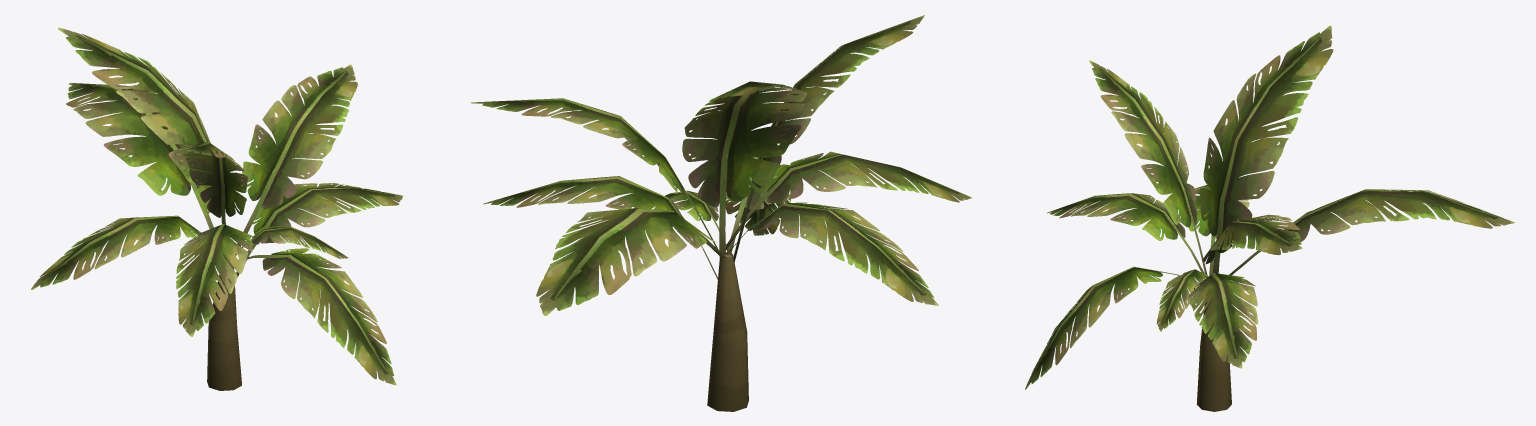
The model's file is LittlePalm.fbx.
The picture shows the model from 3 angles, left to right: view 1: azimuth 30°, elevation 25°; view 2: azimuth 150°, elevation 25°; view 3: azimuth 270°, elevation 25°; orthographic projection. The views are drawn at different scales.
Parts seen in each view (by area): view 1: LittlePalm1; view 2: LittlePalm1; view 3: LittlePalm1.
Part boxes in pixels (x1,y1,x2,y2): LittlePalm1: (31, 27, 403, 390); LittlePalm1: (471, 15, 971, 411); LittlePalm1: (1025, 25, 1514, 411).
Size of the model in its own units: 0.8286 by 0.6868 by 0.953.
1 material, 1 textured.
